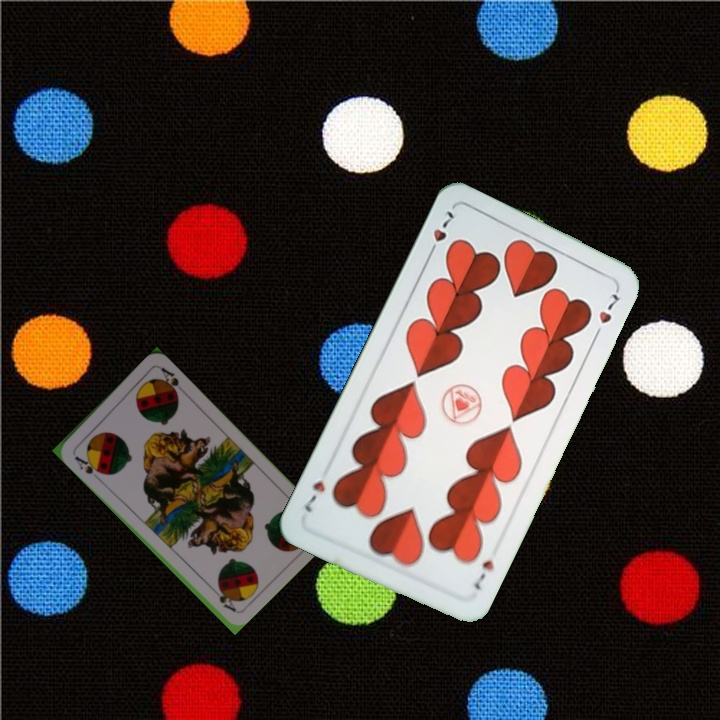H7: (423, 206, 457, 260), (469, 556, 497, 593)
SA: (70, 452, 106, 477)
